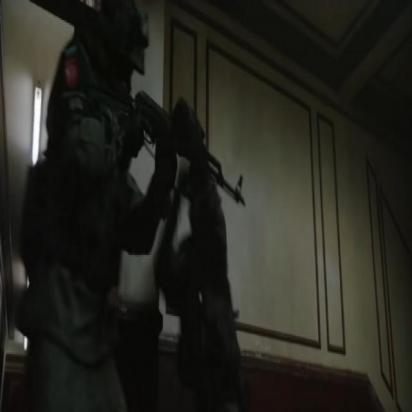Gun: (88, 70, 245, 219)
